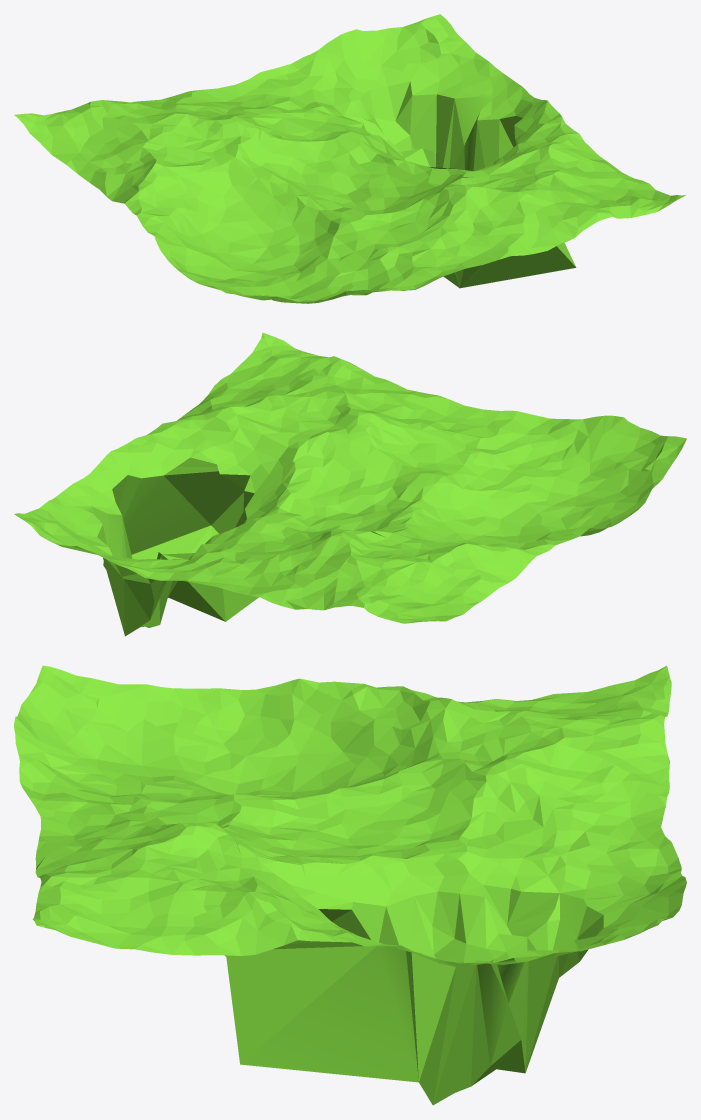
The model's file is terrain1_edit.fbx.
The picture shows the model from 3 angles, top to bottom: view 1: azimuth 30°, elevation 25°; view 2: azimuth 150°, elevation 25°; view 3: azimuth 270°, elevation 25°; orthographic projection. The views are drawn at different scales.
Parts seen in each view (by area): view 1: terrain1; view 2: terrain1; view 3: terrain1.
Boxes of the visible parts, x1,y1,x2,y2 form: terrain1: [14, 14, 685, 303]; terrain1: [14, 332, 686, 636]; terrain1: [14, 665, 686, 1105].
Size of the model in its own units: 3724 by 1284 by 3855.
